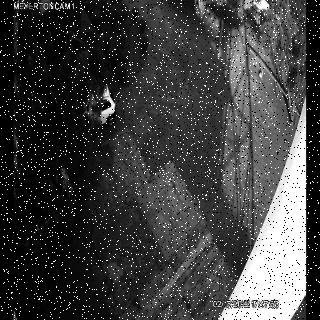car: (21, 167, 74, 246), (100, 83, 116, 126)
